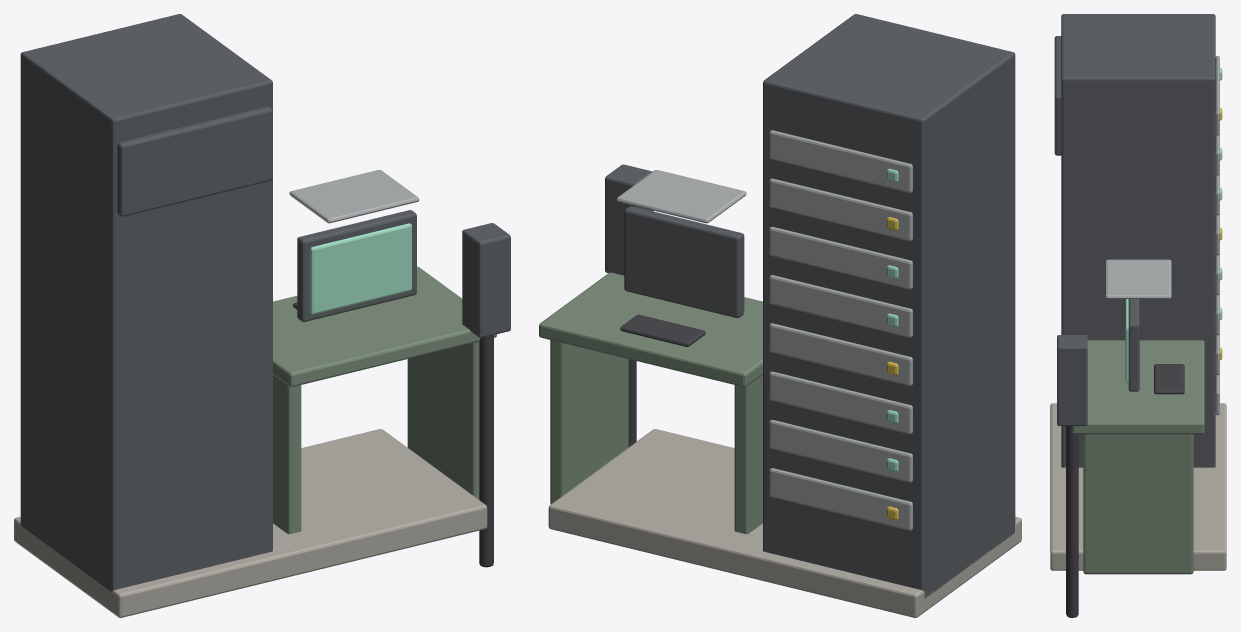
File: intel_terminal.fbx
3 views of the same model, side by side, from view 1: azimuth 30°, elevation 25°; view 2: azimuth 150°, elevation 25°; view 3: azimuth 270°, elevation 25° (orthographic). The views are drawn at different scales.
Visible parts, largest first — view 1: intel_terminal; view 2: intel_terminal; view 3: intel_terminal.
Part boxes in pixels (left/top/right/bottom): intel_terminal: left=14, top=14, right=510, bottom=617; intel_terminal: left=539, top=14, right=1021, bottom=617; intel_terminal: left=1050, top=14, right=1226, bottom=617.
Size of the model in its own units: 1.72 by 2.25 by 0.8.
